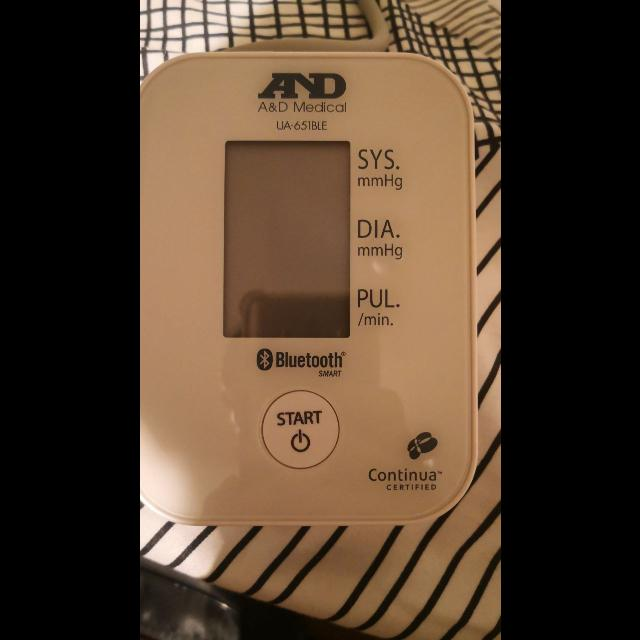Blood-Pressure-Monitor: (139, 52, 479, 526)
